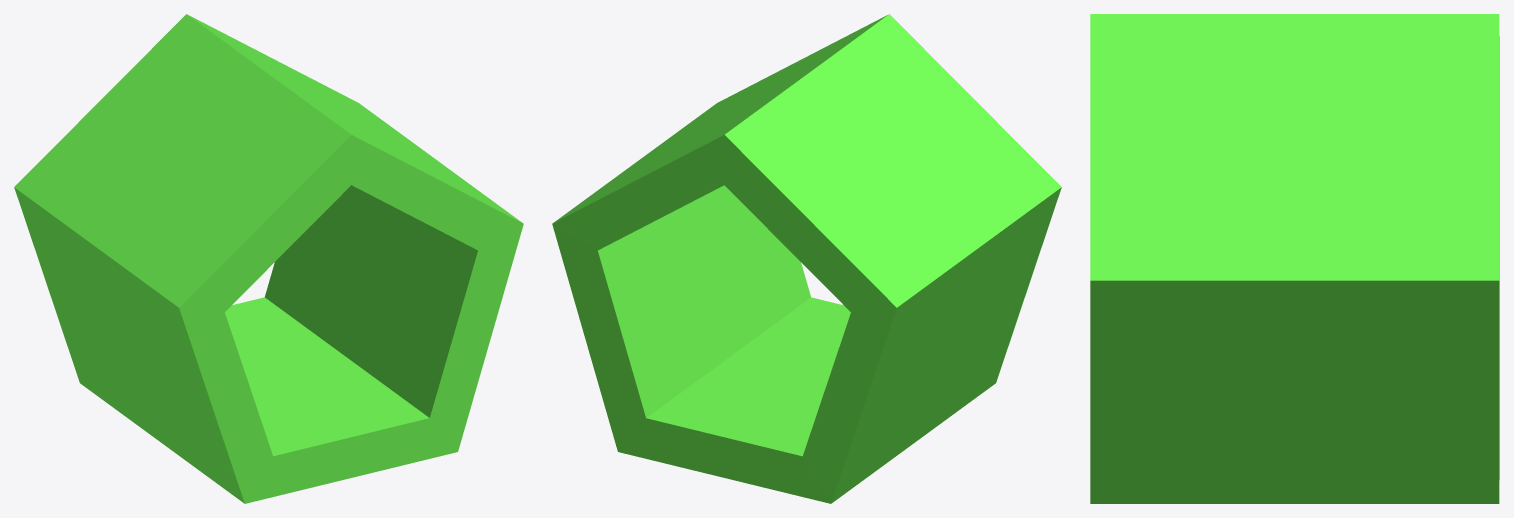
File: chives02.obj
3 views of the same model, side by side, from view 1: azimuth 30°, elevation 25°; view 2: azimuth 150°, elevation 25°; view 3: azimuth 270°, elevation 25° (orthographic). The views are drawn at different scales.
Visible parts, largest first — view 1: Cylinder; view 2: Cylinder; view 3: Cylinder.
Part boxes in pixels (left/top/right/bottom): Cylinder: left=14, top=14, right=523, bottom=503; Cylinder: left=552, top=14, right=1061, bottom=503; Cylinder: left=1090, top=14, right=1499, bottom=503.
Bounding box in the file's own units: 0.00572 × 0.00544 × 0.00474.
Materials: 1 (1 with a texture image).
